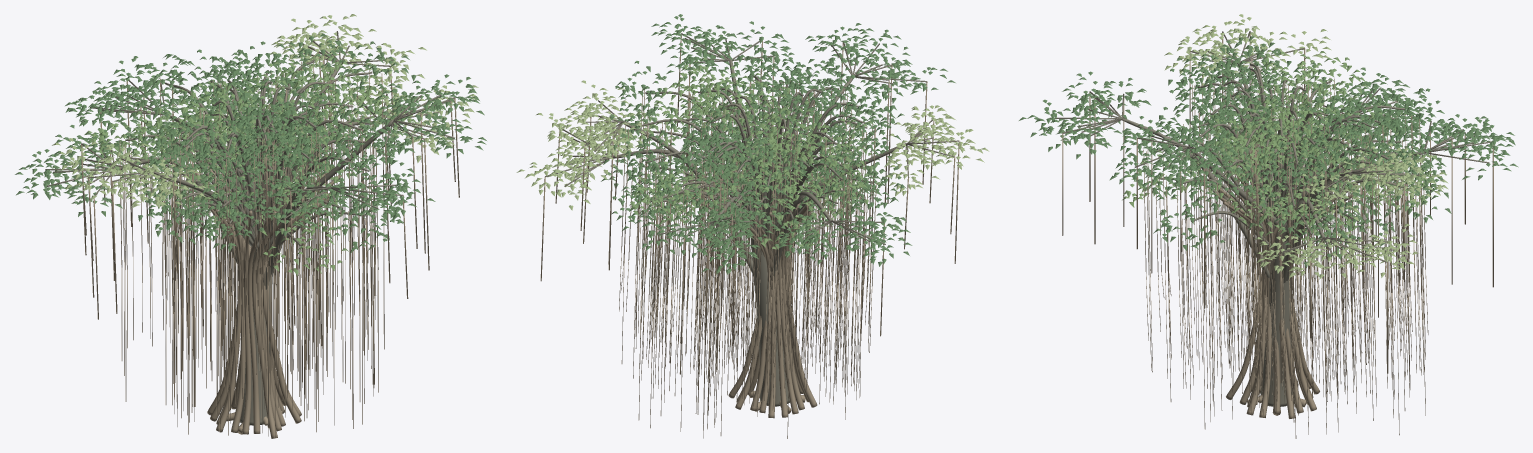
Rendered from dongpo-east-banyan-1.glb.
3 views of the same model, side by side, from view 1: azimuth 30°, elevation 25°; view 2: azimuth 150°, elevation 25°; view 3: azimuth 270°, elevation 25° (orthographic). The views are drawn at different scales.
Parts seen in each view (by area): view 1: dongpo-east-banyan-1; view 2: dongpo-east-banyan-1; view 3: dongpo-east-banyan-1.
Part boxes in pixels (x1=…): dongpo-east-banyan-1: x1=15, y1=14, x2=486, y2=438; dongpo-east-banyan-1: x1=516, y1=14, x2=989, y2=438; dongpo-east-banyan-1: x1=1019, y1=14, x2=1518, y2=438.
Bounding box in the file's own units: 12.44 × 9 × 12.49.
